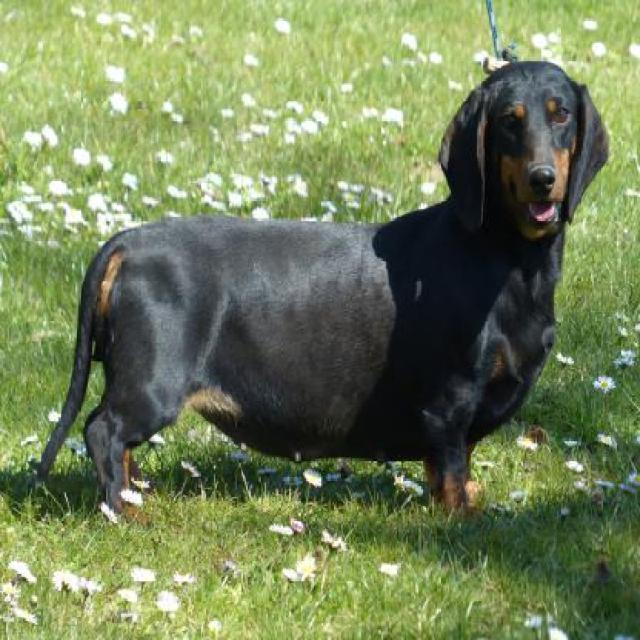Dog: (26, 49, 611, 526)
